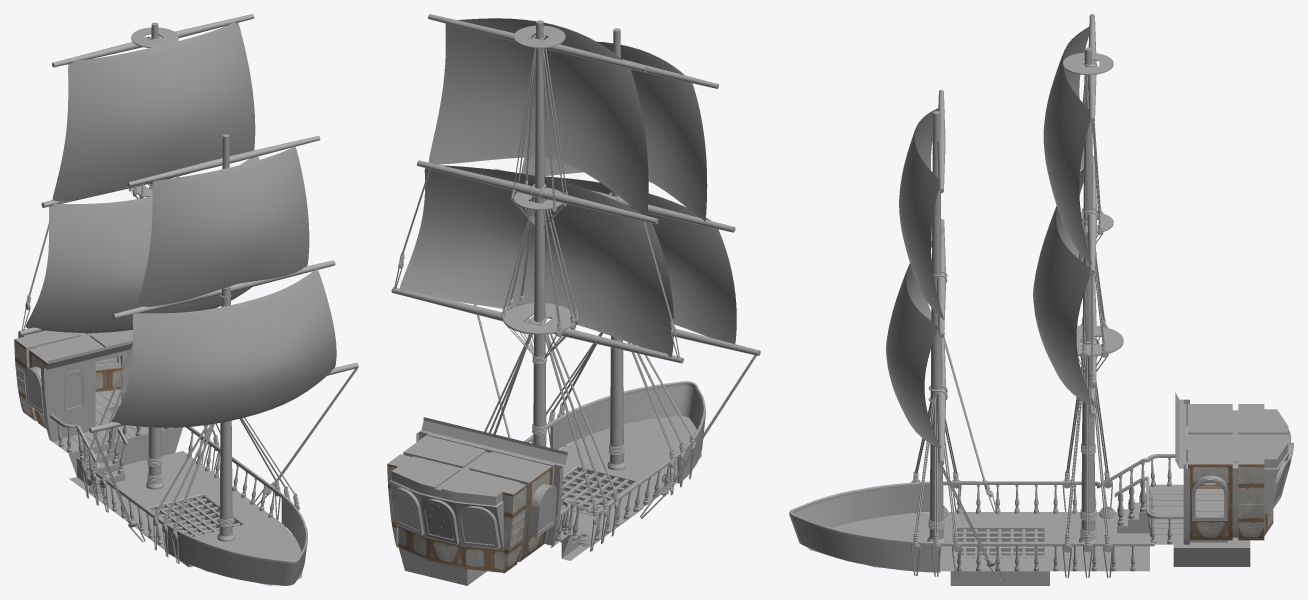
Rendered from PirateShip.fbx.
3 views of the same model, side by side, from view 1: azimuth 30°, elevation 25°; view 2: azimuth 150°, elevation 25°; view 3: azimuth 270°, elevation 25° (orthographic). The views are drawn at different scales.
Visible parts, largest first — view 1: Sails, Mast, polySurface3, Ropes, Railing, Plaster, WoodenBeams, AltWood, RailingVerticals, WoodAndPlaster, HoldBars, ShipPlayArea (+3 smaller); view 2: Sails, Mast, Ropes, Plaster, polySurface3, WoodenBeams, WoodAndPlaster, RailingPlaster, WindowGlass, Railing, WindowWood, HoldBars (+5 smaller); view 3: Sails, Mast, Ropes, polySurface3, Railing, Plaster, WoodAndPlaster, WoodenBeams, RailingPlaster, RailingVerticals, ShipPlayArea, AltWood (+4 smaller).
Part boxes in pixels (left/top/right/bottom): Sails: left=25, top=22, right=336, bottom=427; Mast: left=18, top=14, right=358, bottom=541; polySurface3: left=69, top=450, right=302, bottom=585; Ropes: left=21, top=36, right=357, bottom=563; Railing: left=50, top=414, right=307, bottom=585; Plaster: left=14, top=328, right=132, bottom=438; WoodenBeams: left=18, top=333, right=248, bottom=537; AltWood: left=68, top=427, right=234, bottom=567; RailingVerticals: left=57, top=420, right=274, bottom=544; WoodAndPlaster: left=14, top=339, right=121, bottom=429; HoldBars: left=154, top=497, right=240, bottom=536; ShipPlayArea: left=53, top=389, right=173, bottom=453; Sails: left=399, top=18, right=736, bottom=357; Mast: left=391, top=14, right=760, bottom=470; Ropes: left=394, top=35, right=756, bottom=551; Plaster: left=387, top=435, right=557, bottom=551; polySurface3: left=558, top=416, right=701, bottom=560; WoodenBeams: left=390, top=417, right=640, bottom=561; WoodAndPlaster: left=387, top=464, right=552, bottom=573; RailingPlaster: left=553, top=385, right=702, bottom=449; WindowGlass: left=395, top=489, right=554, bottom=544; Railing: left=524, top=381, right=705, bottom=519; WindowWood: left=391, top=485, right=556, bottom=548; HoldBars: left=561, top=469, right=630, bottom=512; Sails: left=886, top=26, right=1096, bottom=448; Mast: left=927, top=14, right=1123, bottom=542; Ropes: left=911, top=61, right=1115, bottom=582; polySurface3: left=807, top=495, right=1149, bottom=571; Railing: left=789, top=454, right=1183, bottom=572; Plaster: left=1186, top=404, right=1293, bottom=520; WoodAndPlaster: left=1188, top=464, right=1273, bottom=540; WoodenBeams: left=952, top=392, right=1289, bottom=557; RailingPlaster: left=793, top=485, right=929, bottom=527; RailingVerticals: left=956, top=458, right=1171, bottom=571; ShipPlayArea: left=1150, top=484, right=1224, bottom=544; AltWood: left=950, top=513, right=1149, bottom=585.
Bounding box in the file's own units: 815 × 1425 × 1250.
10 materials, 1 textured.
